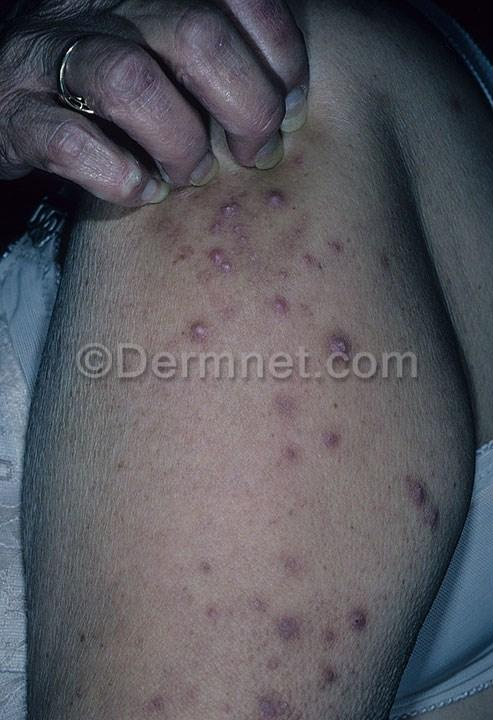Eczema: (165, 168, 359, 370), (230, 539, 388, 720), (247, 359, 413, 491), (114, 534, 237, 650), (50, 618, 121, 719), (133, 634, 205, 720), (412, 470, 477, 562)
